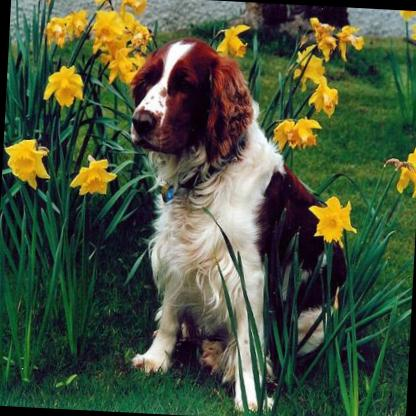Welsh_springer_spaniel: (112, 34, 355, 414)
